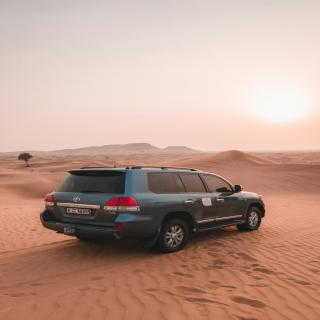Normal_vehicle: (39, 165, 268, 254)
